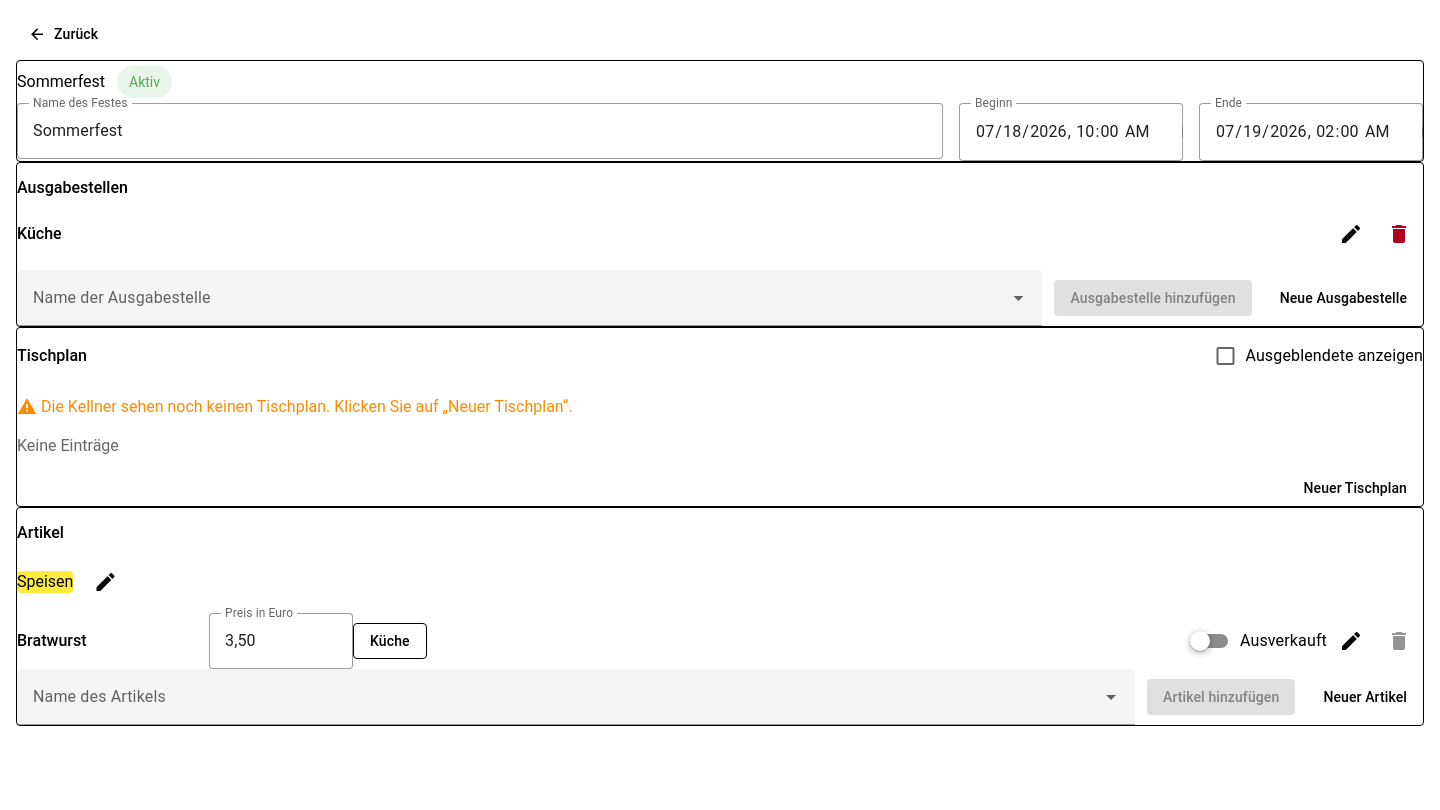
the name and the dates at the top of the page › asks for a name when the admin empties the field
Clear the field labelled "Name des Festes" at (480, 131), box x1=17 y1=103 x2=943 y2=159
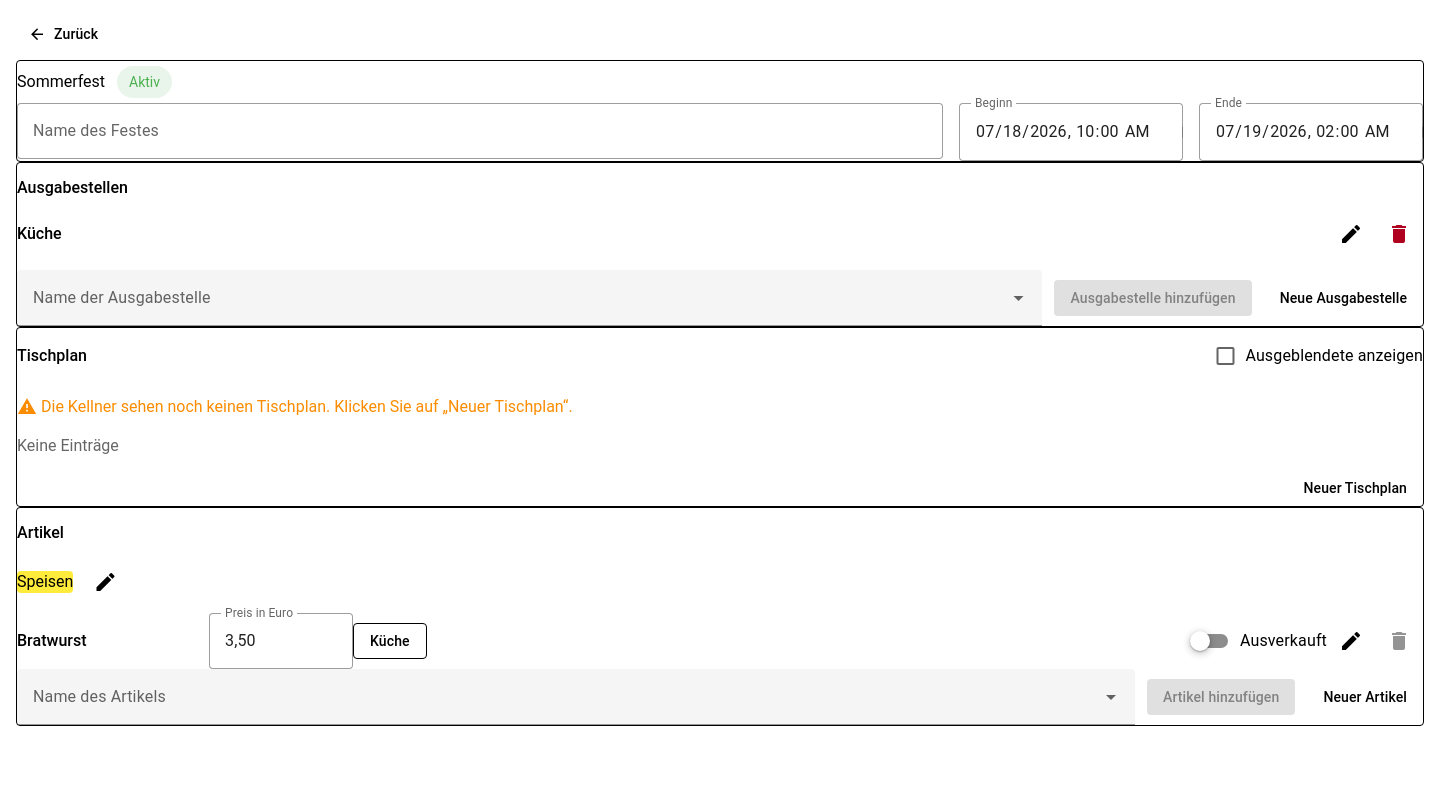
Leave the field labelled "Name des Festes", box x1=17 y1=103 x2=943 y2=159
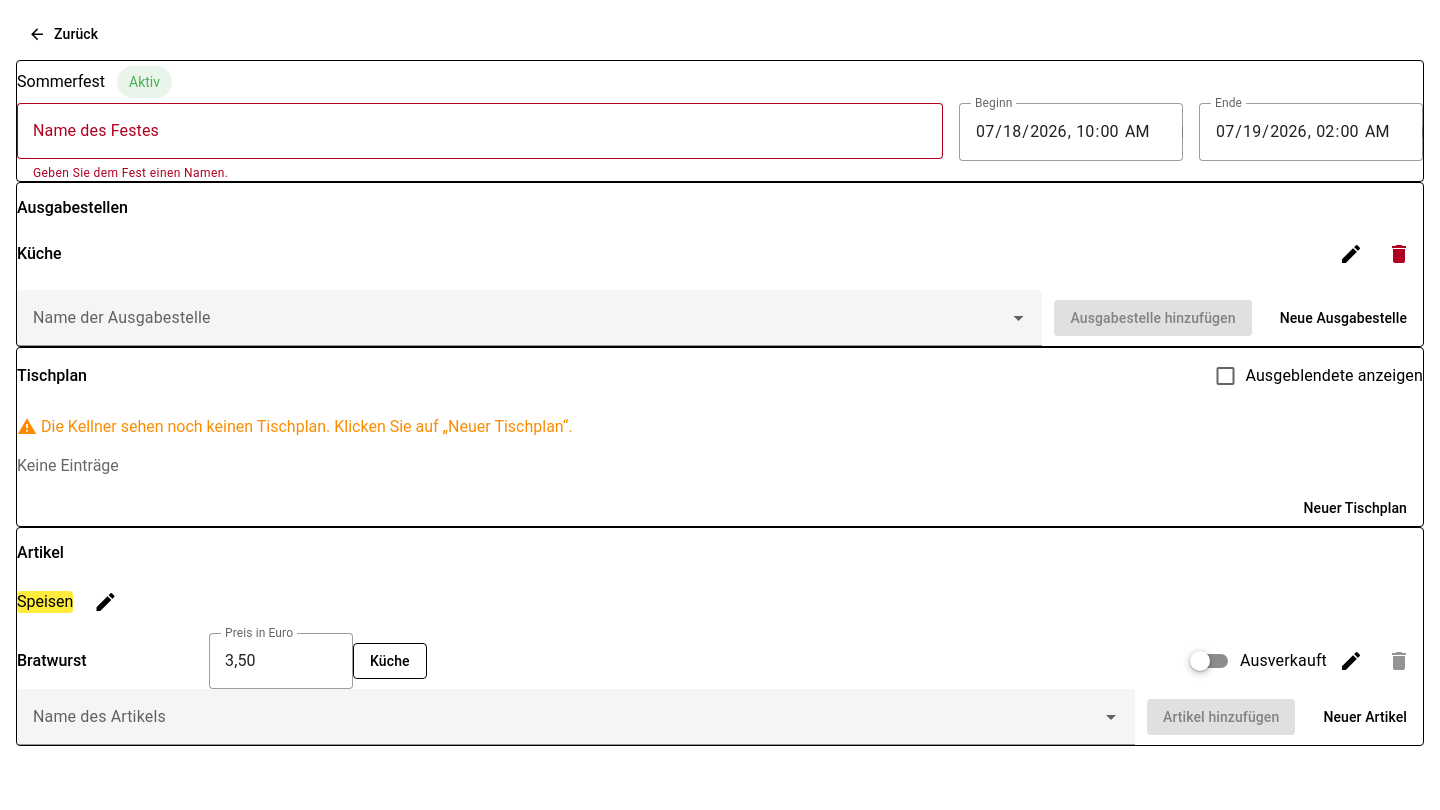
Now the text "Geben Sie dem Fest einen Namen." is shown, box x1=33 y1=166 x2=228 y2=180
